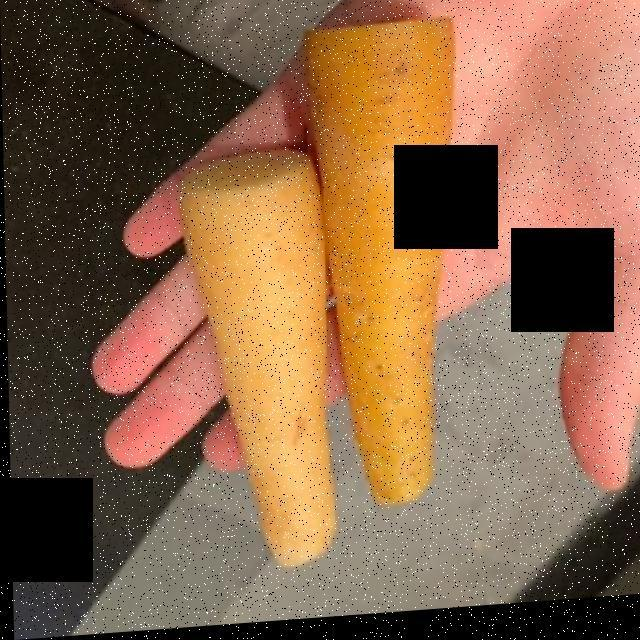carrot: (175, 24, 460, 566)
